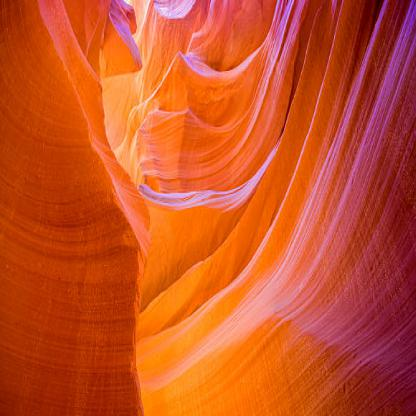Sedimentary_Sandstone: (1, 0, 108, 415), (161, 279, 416, 415), (152, 0, 306, 127), (151, 140, 304, 254), (65, 202, 147, 414)
